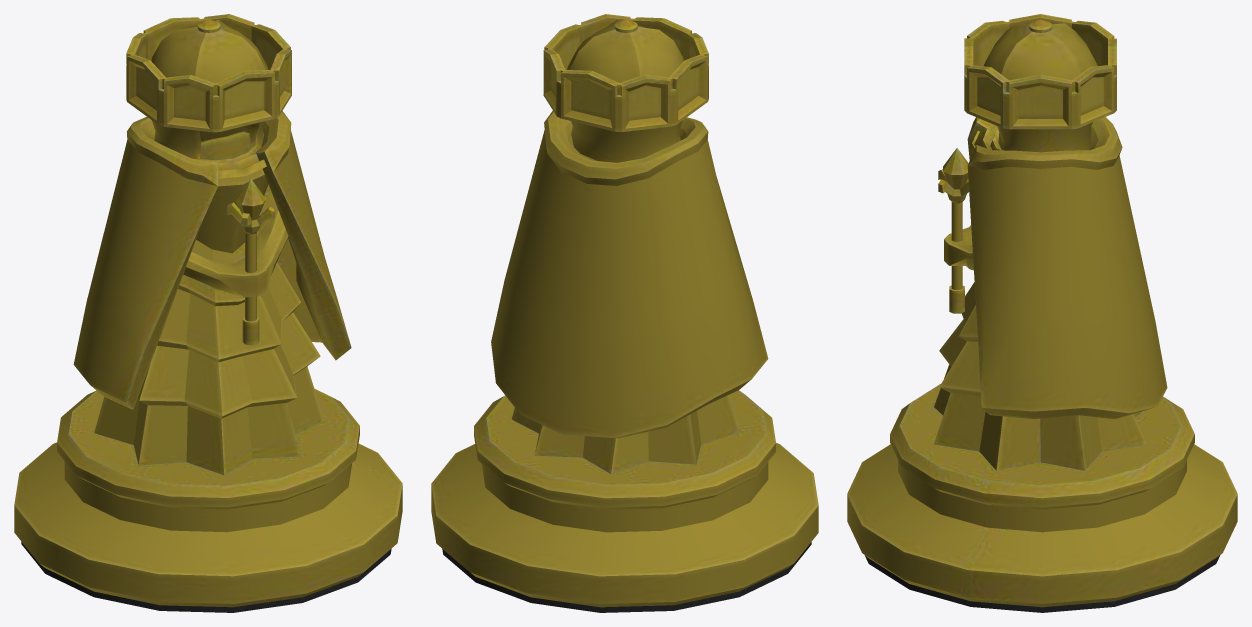
The picture shows the model from 3 angles, left to right: view 1: azimuth 30°, elevation 25°; view 2: azimuth 150°, elevation 25°; view 3: azimuth 270°, elevation 25°; orthographic projection.
Visible parts, largest first — view 1: Object_20.001; view 2: Object_20.001; view 3: Object_20.001.
Part boxes in pixels (left/top/right/bottom): Object_20.001: left=14, top=14, right=402, bottom=612; Object_20.001: left=431, top=14, right=818, bottom=612; Object_20.001: left=847, top=14, right=1237, bottom=612.
Size of the model in its own units: 1.16 by 1.68 by 1.16.
Materials: 1 (1 with a texture image).
